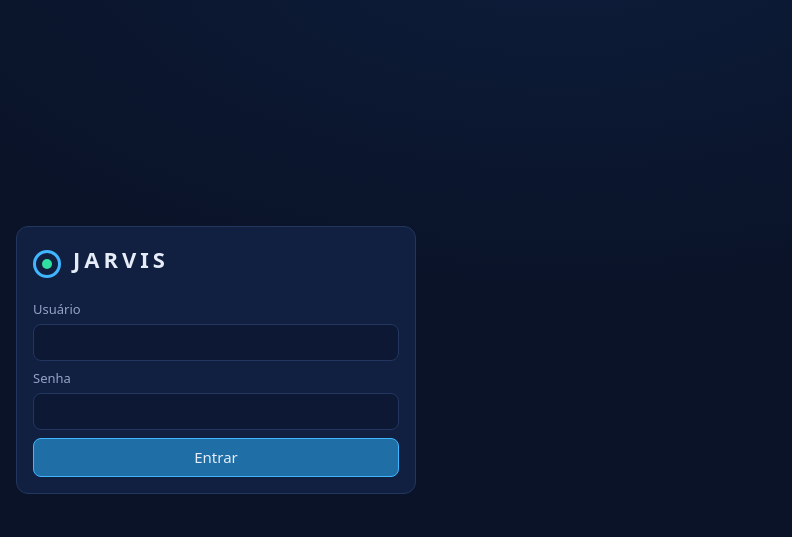
Login › exibe erro de senha incorreta
In the field labelled "Usuário": (216, 343) [33, 324, 399, 361], type "doug"
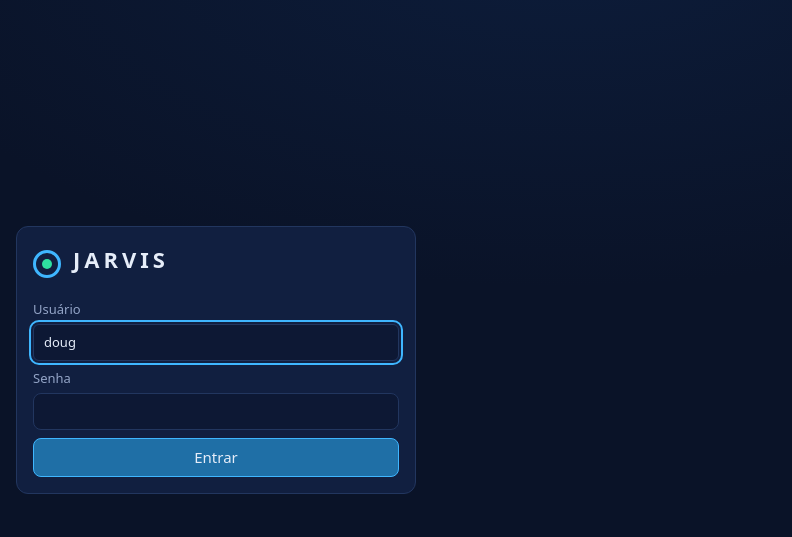
In the password field labelled "Senha": (216, 412) [33, 393, 399, 430], type "errada"
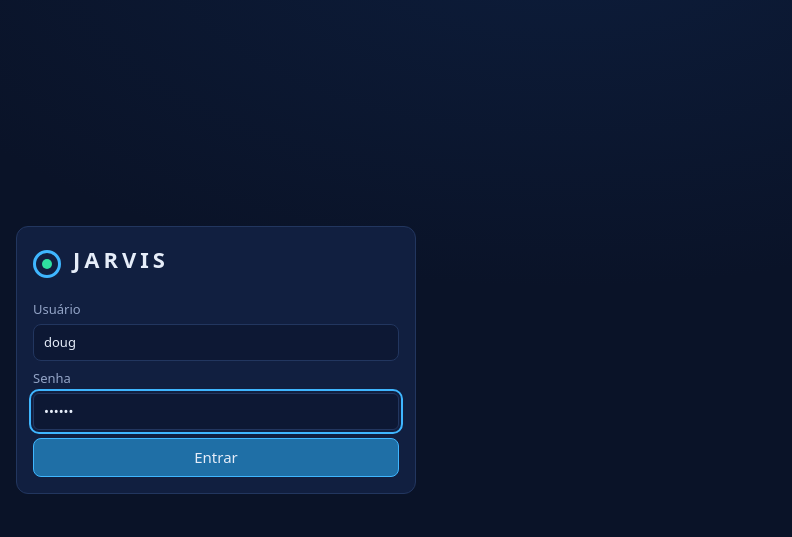
Click the button "Entrar": click(216, 458) [33, 438, 399, 477]
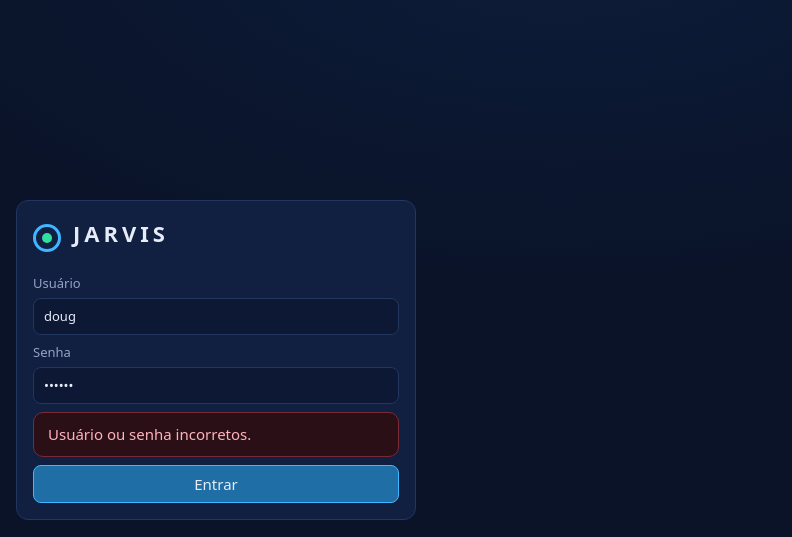
Expected: the message shows "incorretos", [48, 424, 251, 444]
